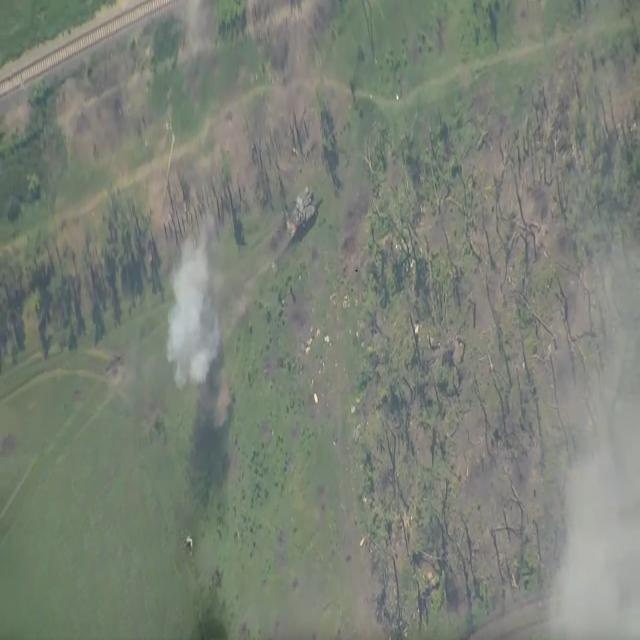MBT: (287, 177, 322, 246)
